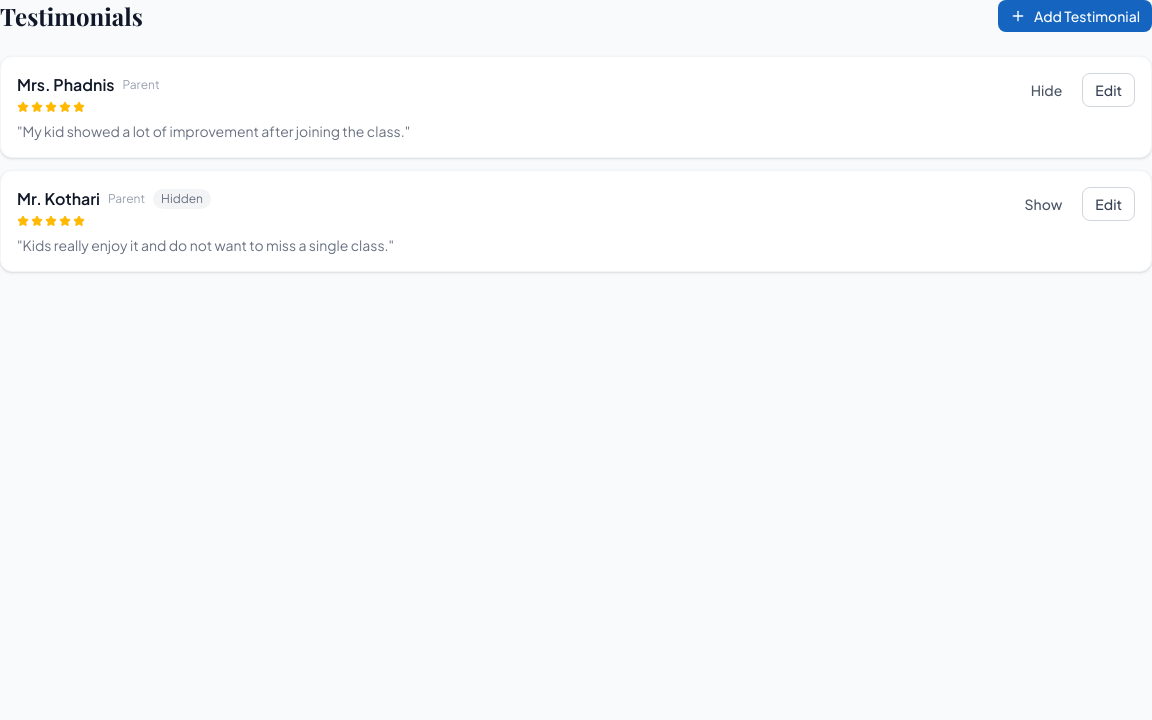
TestimonialActions › opens the edit modal with the correct testimonial name pre-filled
Click Edit on the first testimonial
Click the button "Edit" in the row of "Mrs. Phadnis".
click(1109, 90)  # box [1082,73,1135,107]
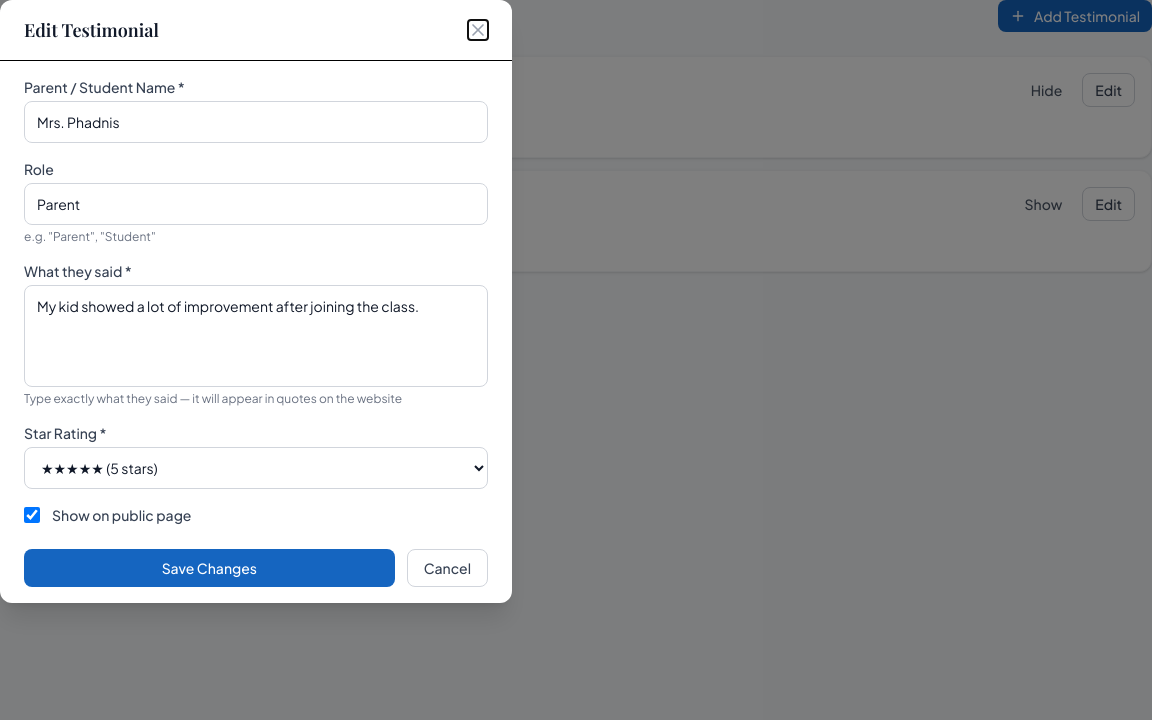
Check: the heading "Edit Testimonial" is shown, box [24,16,159,44]
Check: the field showing "Mrs. Phadnis" below "Parent / Student Name *" is shown, box [24,101,488,143]
